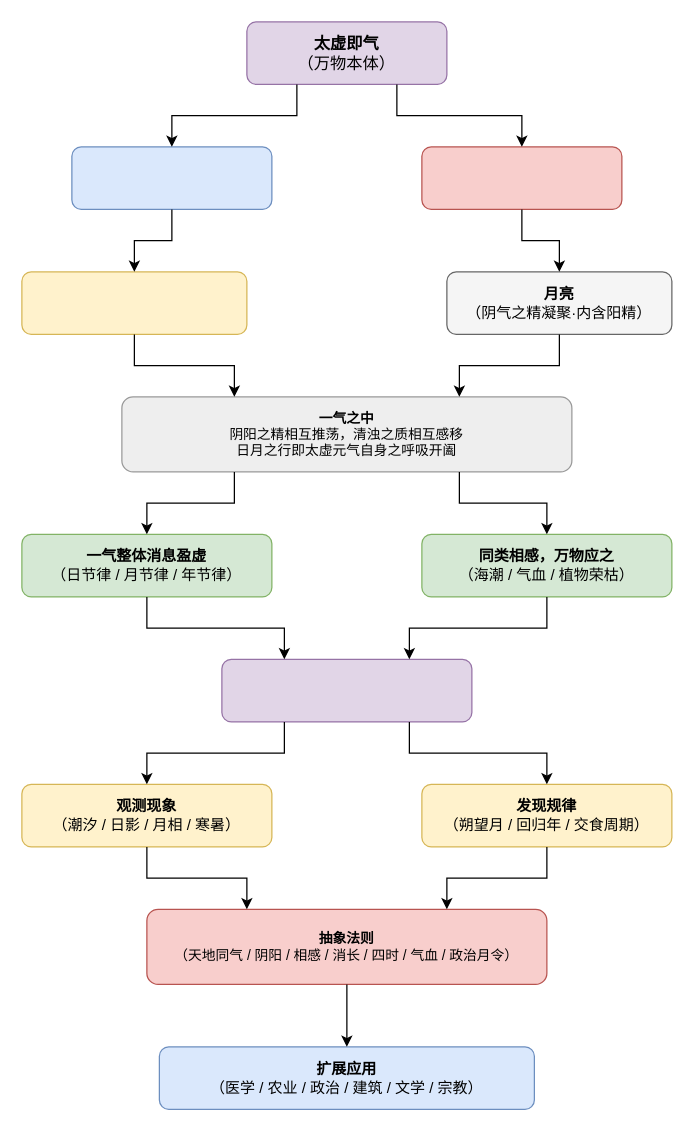
Some shapes in this 694 by 1131 pixel diagram are drawn without their labels. The box of each missing label's shape, as (x1, y1, x2, y2) in pixels:
万物与日月同其节律: (221, 658, 472, 722)
太阳 （阳气之精凝聚·内含阴精）: (21, 271, 247, 334)
阳气 （清轻·升发·弥散）: (71, 146, 272, 209)
阴气 （重浊·沉降·凝聚）: (421, 146, 622, 209)
